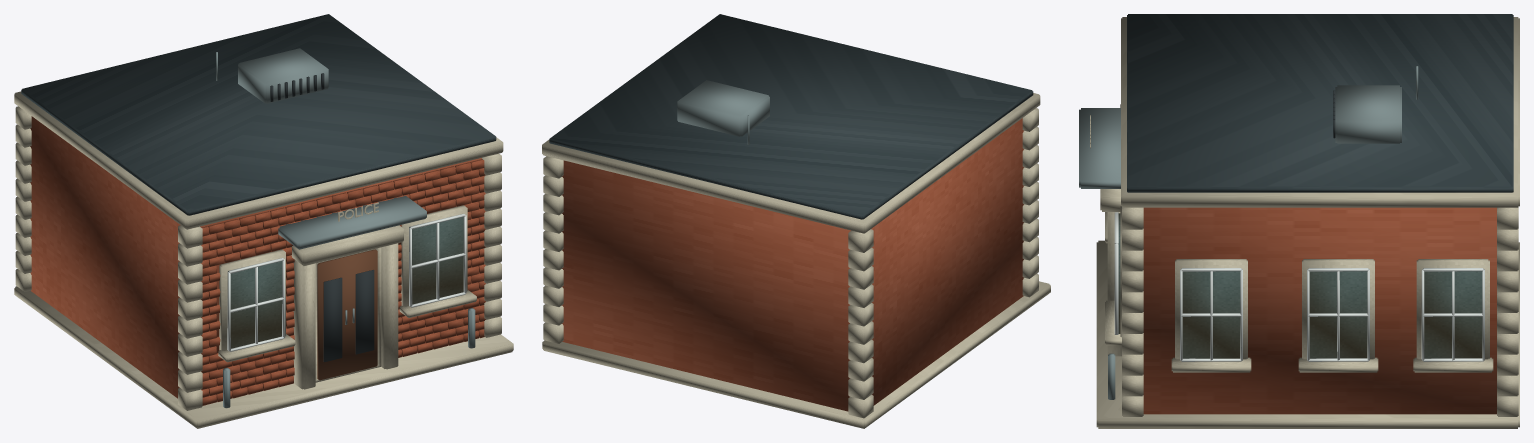
The picture shows the model from 3 angles, left to right: view 1: azimuth 30°, elevation 25°; view 2: azimuth 150°, elevation 25°; view 3: azimuth 270°, elevation 25°; orthographic projection. The views are drawn at different scales.
Parts seen in each view (by area): view 1: police_station__static_slate, police_station__static_warm_brick, police_station__static_limestone, police_station__static_patinated_metal, police_station__static_warm_glazing, police_station__door_01__recessed_entrance_leaf, police_station__static_civic_pale_painted_trim, police_station__door_01, police_station__door_01__door_inset_panel, police_station__static_recess_/_shadow_joints; view 2: police_station__static_warm_brick, police_station__static_slate, police_station__static_limestone, police_station__static_patinated_metal; view 3: police_station__static_slate, police_station__static_warm_brick, police_station__static_limestone, police_station__static_warm_glazing, police_station__static_patinated_metal, police_station__static_civic_pale_painted_trim.
Part boxes in pixels (x1,y1,x2,y2): police_station__static_slate: (21,14,496,215); police_station__static_warm_brick: (30,116,485,405); police_station__static_limestone: (14,91,513,428); police_station__static_patinated_metal: (216,48,475,408); police_station__static_warm_glazing: (228,217,463,348); police_station__door_01__recessed_entrance_leaf: (317,249,377,380); police_station__static_civic_pale_painted_trim: (227,213,466,351); police_station__door_01: (352,270,374,354); police_station__door_01__door_inset_panel: (323,277,342,362); police_station__static_recess_/_shadow_joints: (270,73,324,101); police_station__static_warm_brick: (562,118,1023,411); police_station__static_slate: (549,14,1033,219); police_station__static_limestone: (542,93,1050,428); police_station__static_patinated_metal: (677,80,769,144); police_station__static_slate: (1127,14,1513,192); police_station__static_warm_brick: (1143,207,1496,414); police_station__static_limestone: (1090,17,1519,428); police_station__static_warm_glazing: (1118,213,1482,358); police_station__static_patinated_metal: (1079,66,1418,399); police_station__static_civic_pale_painted_trim: (1114,212,1484,361).
Bounding box in the file's own units: 7.2 × 5 × 7.29.
Materials: 8 (4 with a texture image).
